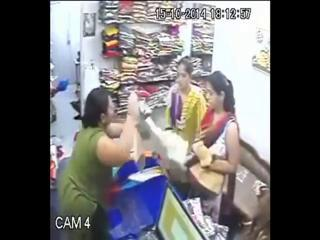Normal: (56, 87, 142, 240), (184, 70, 240, 229), (166, 56, 207, 148)
